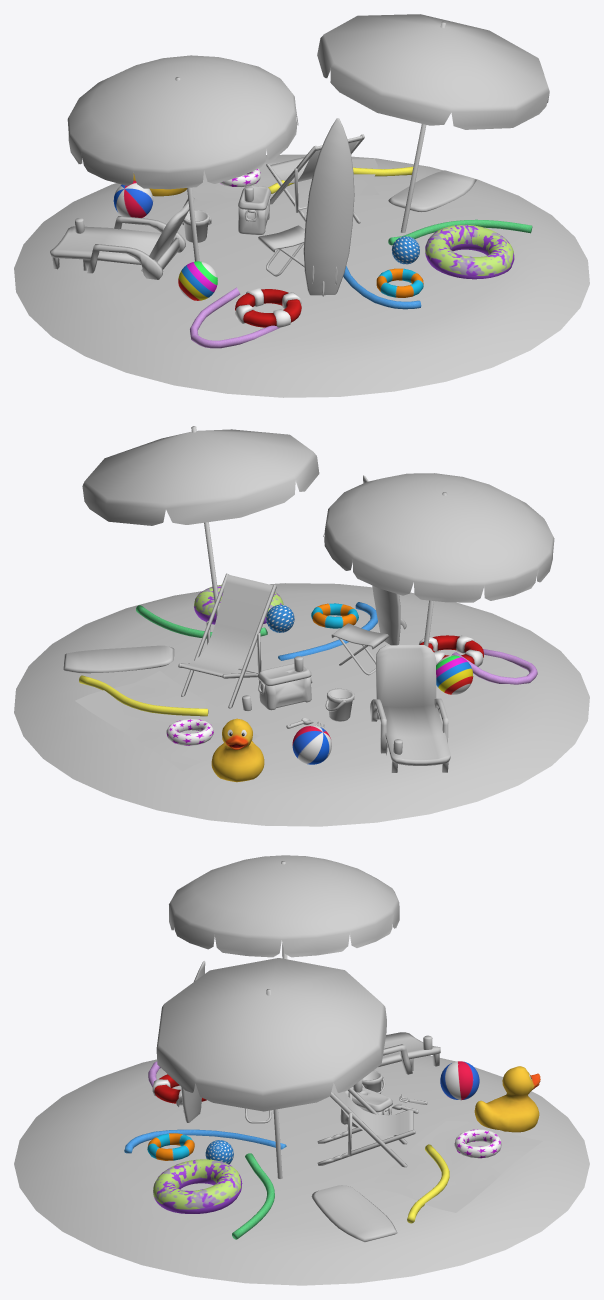
Rendered from 海滩道具.FBX.
3 renders of one model, top to bottom at view 1: azimuth 30°, elevation 25°; view 2: azimuth 150°, elevation 25°; view 3: azimuth 270°, elevation 25°, orthographic.
Visible parts, largest first — view 1: 28__SAND_28__SAND_48_28__SAND, 2__Plane_006_Beach_Pr_2__Plane_006_Beach_Pr_3_2__Plane_006_B, 3__Plane_007_Beach_Pr_3__Plane_007_Beach_Pr_5_3__Plane_007_B, 10__Cube_005_Beach_Pr_10__Cube_005_Beach_Pr_19_10__Cube_005_, 1__Beach_Props_1__Beach_Props_1_1__Beach_Props, 13__Floaters_13__Floaters_24_13__Floaters, 12__Plane_008_Beach_P_12__Plane_008_Beach_P_23_12__Plane_008, 11__Cube_006_Beach_Pr_11__Cube_006_Beach_Pr_21_11__Cube_006_, 17__Cylinder_005_Floa_17__Cylinder_005_Floa_31_17__Cylinder_, 4__Cube_002_Beach_Pro_4__Cube_002_Beach_Pro_7_4__Cube_002_Be, 9__Cube_003_Beach_Pro_9__Cube_003_Beach_Pro_17_9__Cube_003_B, 24__Cylinder_010_Floa_24__Cylinder_010_Floa_43_24__Cylinder_ (+9 smaller); view 2: 28__SAND_28__SAND_48_28__SAND, 2__Plane_006_Beach_Pr_2__Plane_006_Beach_Pr_3_2__Plane_006_B, 3__Plane_007_Beach_Pr_3__Plane_007_Beach_Pr_5_3__Plane_007_B, 1__Beach_Props_1__Beach_Props_1_1__Beach_Props, 12__Plane_008_Beach_P_12__Plane_008_Beach_P_23_12__Plane_008, 4__Cube_002_Beach_Pro_4__Cube_002_Beach_Pro_7_4__Cube_002_Be, 11__Cube_006_Beach_Pr_11__Cube_006_Beach_Pr_21_11__Cube_006_, 19__Plane_009_Floater_19__Plane_009_Floater_34_19__Plane_009, 9__Cube_003_Beach_Pro_9__Cube_003_Beach_Pro_17_9__Cube_003_B, 10__Cube_005_Beach_Pr_10__Cube_005_Beach_Pr_19_10__Cube_005_, 14__Sphere_003_Floate_14__Sphere_003_Floate_25_14__Sphere_00, 16__Sphere_005_Floate_16__Sphere_005_Floate_29_16__Sphere_00 (+11 smaller); view 3: 28__SAND_28__SAND_48_28__SAND, 3__Plane_007_Beach_Pr_3__Plane_007_Beach_Pr_5_3__Plane_007_B, 2__Plane_006_Beach_Pr_2__Plane_006_Beach_Pr_3_2__Plane_006_B, 12__Plane_008_Beach_P_12__Plane_008_Beach_P_23_12__Plane_008, 13__Floaters_13__Floaters_24_13__Floaters, 4__Cube_002_Beach_Pro_4__Cube_002_Beach_Pro_7_4__Cube_002_Be, 11__Cube_006_Beach_Pr_11__Cube_006_Beach_Pr_21_11__Cube_006_, 19__Plane_009_Floater_19__Plane_009_Floater_34_19__Plane_009, 1__Beach_Props_1__Beach_Props_1_1__Beach_Props, 14__Sphere_003_Floate_14__Sphere_003_Floate_25_14__Sphere_00, 22__Cylinder_008_Floa_22__Cylinder_008_Floa_39_22__Cylinder_, 18__Torus_005_Floater_18__Torus_005_Floater_33_18__Torus_005 (+6 smaller).
Boxes of the visible parts, x1,y1,x2,y2 form: 28__SAND_28__SAND_48_28__SAND: (14, 154, 589, 397); 2__Plane_006_Beach_Pr_2__Plane_006_Beach_Pr_3_2__Plane_006_B: (67, 55, 298, 261); 3__Plane_007_Beach_Pr_3__Plane_007_Beach_Pr_5_3__Plane_007_B: (317, 14, 549, 232); 10__Cube_005_Beach_Pr_10__Cube_005_Beach_Pr_19_10__Cube_005_: (303, 118, 354, 296); 1__Beach_Props_1__Beach_Props_1_1__Beach_Props: (50, 197, 194, 279); 13__Floaters_13__Floaters_24_13__Floaters: (425, 224, 514, 279); 12__Plane_008_Beach_P_12__Plane_008_Beach_P_23_12__Plane_008: (187, 159, 379, 200); 11__Cube_006_Beach_Pr_11__Cube_006_Beach_Pr_21_11__Cube_006_: (388, 170, 476, 212); 17__Cylinder_005_Floa_17__Cylinder_005_Floa_31_17__Cylinder_: (235, 288, 301, 327); 4__Cube_002_Beach_Pro_4__Cube_002_Beach_Pro_7_4__Cube_002_Be: (266, 134, 364, 223); 9__Cube_003_Beach_Pro_9__Cube_003_Beach_Pro_17_9__Cube_003_B: (238, 185, 270, 234); 24__Cylinder_010_Floa_24__Cylinder_010_Floa_43_24__Cylinder_: (190, 287, 279, 348); 28__SAND_28__SAND_48_28__SAND: (14, 583, 589, 826); 2__Plane_006_Beach_Pr_2__Plane_006_Beach_Pr_3_2__Plane_006_B: (323, 473, 554, 646); 3__Plane_007_Beach_Pr_3__Plane_007_Beach_Pr_5_3__Plane_007_B: (82, 426, 319, 616); 1__Beach_Props_1__Beach_Props_1_1__Beach_Props: (370, 645, 450, 772); 12__Plane_008_Beach_P_12__Plane_008_Beach_P_23_12__Plane_008: (75, 671, 258, 771); 4__Cube_002_Beach_Pro_4__Cube_002_Beach_Pro_7_4__Cube_002_Be: (178, 573, 276, 708); 11__Cube_006_Beach_Pr_11__Cube_006_Beach_Pr_21_11__Cube_006_: (63, 645, 174, 673); 19__Plane_009_Floater_19__Plane_009_Floater_34_19__Plane_009: (211, 718, 264, 782); 9__Cube_003_Beach_Pro_9__Cube_003_Beach_Pro_17_9__Cube_003_B: (257, 663, 312, 710); 10__Cube_005_Beach_Pr_10__Cube_005_Beach_Pr_19_10__Cube_005_: (363, 475, 406, 645); 14__Sphere_003_Floate_14__Sphere_003_Floate_25_14__Sphere_00: (292, 725, 331, 764); 16__Sphere_005_Floate_16__Sphere_005_Floate_29_16__Sphere_00: (436, 655, 473, 694); 28__SAND_28__SAND_48_28__SAND: (14, 1055, 589, 1285); 3__Plane_007_Beach_Pr_3__Plane_007_Beach_Pr_5_3__Plane_007_B: (156, 958, 386, 1178); 2__Plane_006_Beach_Pr_2__Plane_006_Beach_Pr_3_2__Plane_006_B: (169, 855, 399, 959); 12__Plane_008_Beach_P_12__Plane_008_Beach_P_23_12__Plane_008: (366, 1120, 542, 1212); 13__Floaters_13__Floaters_24_13__Floaters: (153, 1159, 242, 1213); 4__Cube_002_Beach_Pro_4__Cube_002_Beach_Pro_7_4__Cube_002_Be: (317, 1083, 415, 1167); 11__Cube_006_Beach_Pr_11__Cube_006_Beach_Pr_21_11__Cube_006_: (311, 1185, 397, 1242); 19__Plane_009_Floater_19__Plane_009_Floater_34_19__Plane_009: (474, 1066, 540, 1132); 1__Beach_Props_1__Beach_Props_1_1__Beach_Props: (378, 1032, 440, 1074); 14__Sphere_003_Floate_14__Sphere_003_Floate_25_14__Sphere_00: (440, 1061, 479, 1100); 22__Cylinder_008_Floa_22__Cylinder_008_Floa_39_22__Cylinder_: (124, 1129, 286, 1153); 18__Torus_005_Floater_18__Torus_005_Floater_33_18__Torus_005: (454, 1129, 501, 1158).
Size of the model in its own units: 1140 by 518 by 1140.
